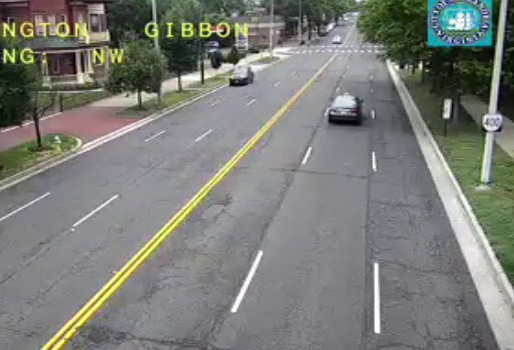car: (330, 96, 360, 122)
